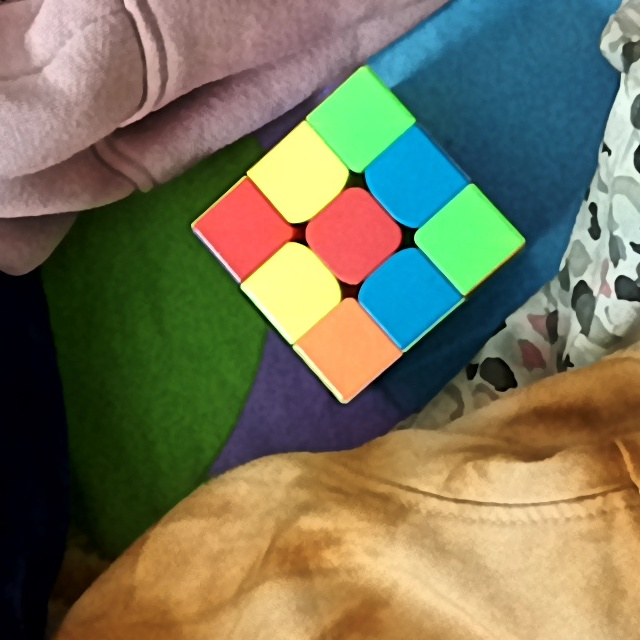tile: (440, 211, 497, 265), (381, 270, 436, 323), (332, 96, 386, 147), (218, 203, 268, 256), (270, 263, 320, 316), (329, 208, 378, 262), (274, 151, 325, 202), (388, 153, 441, 202), (321, 326, 373, 375)
